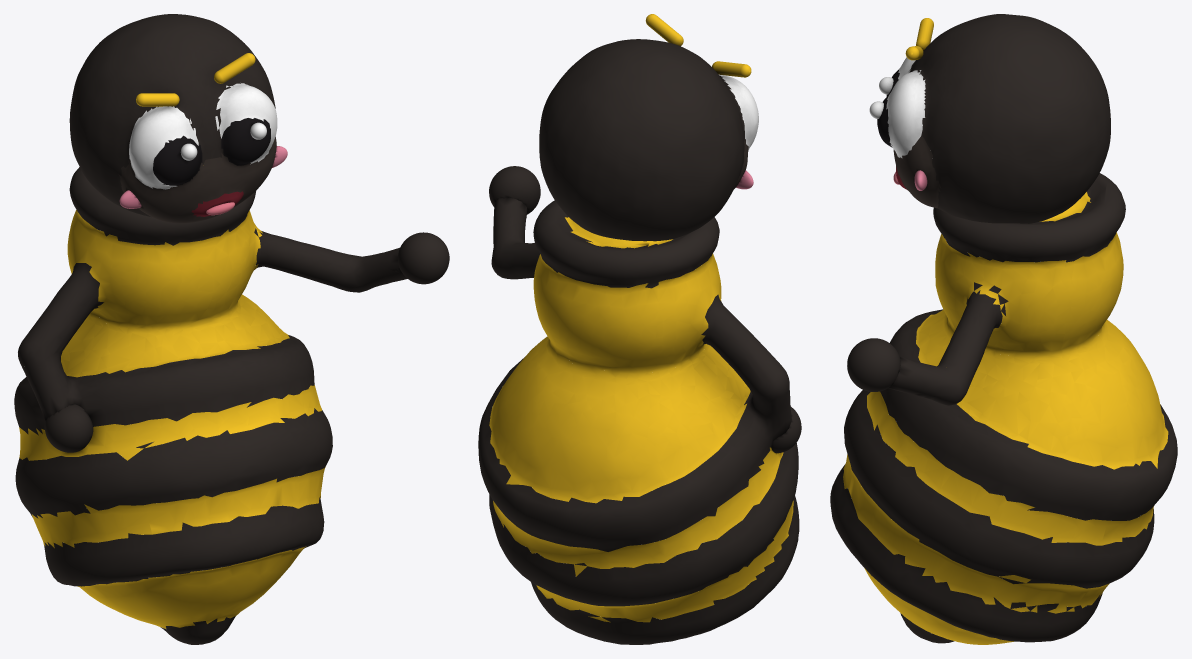
File: hur-mar-du.glb
The picture shows the model from 3 angles, left to right: view 1: azimuth 30°, elevation 25°; view 2: azimuth 150°, elevation 25°; view 3: azimuth 270°, elevation 25°; orthographic projection. The views are drawn at different scales.
Visible parts, largest first — view 1: abelha__r0, cabeca__r0, abelha__r1, abelha__r2, cabeca__r2; view 2: abelha__r0, cabeca__r0, abelha__r1, abelha__r2, cabeca__r2, cabeca__r6; view 3: abelha__r0, cabeca__r0, abelha__r1.
Part boxes in pixels (bbox=[...]): abelha__r0: bbox=[14, 167, 407, 644]; cabeca__r0: bbox=[69, 14, 277, 223]; abelha__r1: bbox=[397, 232, 449, 284]; abelha__r2: bbox=[44, 404, 93, 452]; cabeca__r2: bbox=[214, 53, 255, 83]; abelha__r0: bbox=[478, 197, 799, 644]; cabeca__r0: bbox=[539, 39, 758, 241]; abelha__r1: bbox=[489, 166, 540, 214]; abelha__r2: bbox=[771, 406, 801, 453]; cabeca__r2: bbox=[645, 14, 683, 46]; cabeca__r6: bbox=[712, 61, 751, 77]; abelha__r0: bbox=[830, 173, 1177, 644]; cabeca__r0: bbox=[877, 14, 1110, 223]; abelha__r1: bbox=[847, 338, 900, 391].
Bounding box in the file's own units: 1.36 × 2.15 × 1.09.
